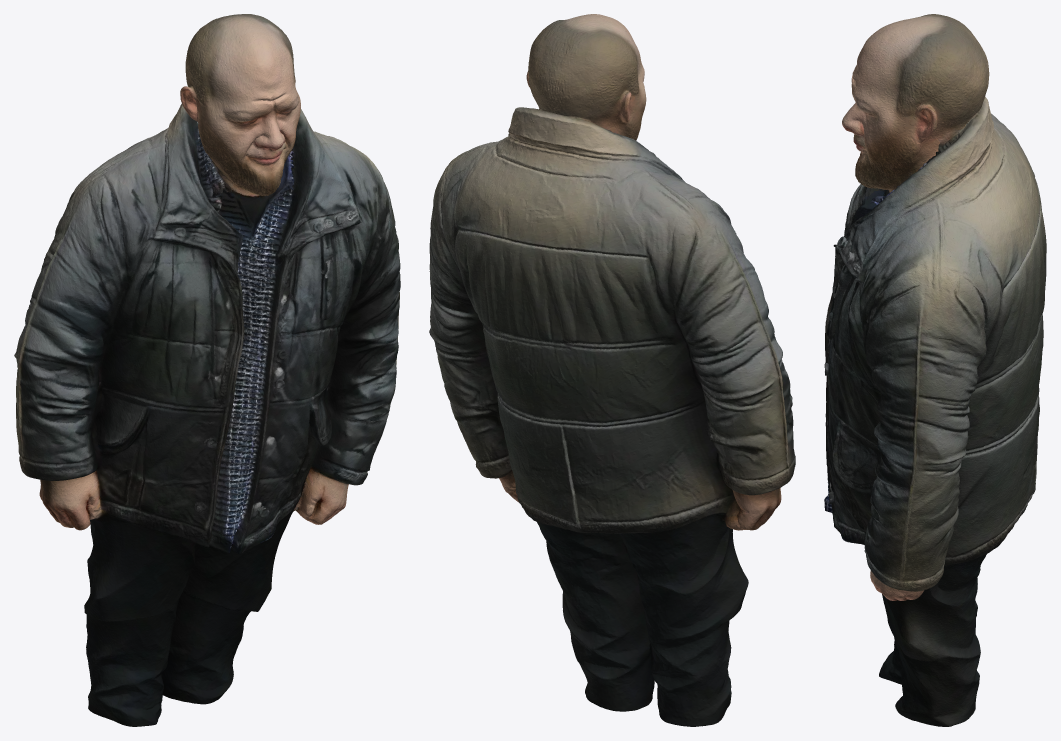
The picture shows the model from 3 angles, left to right: view 1: azimuth 30°, elevation 25°; view 2: azimuth 150°, elevation 25°; view 3: azimuth 270°, elevation 25°; orthographic projection. The views are drawn at different scales.
Parts seen in each view (by area): view 1: tmpc93vddp_obj; view 2: tmpc93vddp_obj; view 3: tmpc93vddp_obj.
Boxes of the visible parts, box(x1,y1,x2,y2) form: tmpc93vddp_obj: box(14, 14, 400, 726); tmpc93vddp_obj: box(429, 14, 795, 726); tmpc93vddp_obj: box(824, 14, 1046, 726).
Size of the model in its own units: 1.07 by 1.84 by 0.5211.
Materials: 1 (1 with a texture image).
